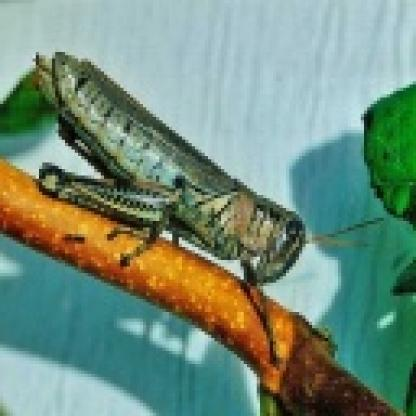grasshopper: (22, 25, 383, 364)
